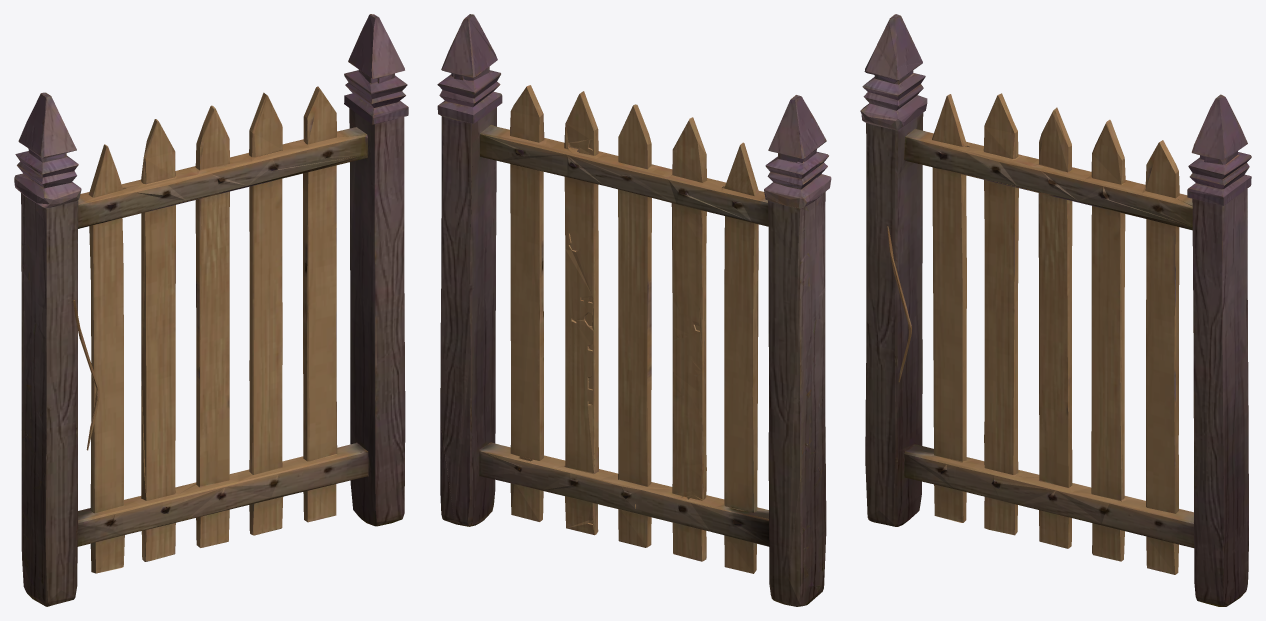
The model's file is village_fence_straight_01.glb.
3 views of the same model, side by side, from view 1: azimuth 30°, elevation 25°; view 2: azimuth 150°, elevation 25°; view 3: azimuth 330°, elevation 25° (orthographic).
Parts seen in each view (by area): view 1: geometry_0; view 2: geometry_0; view 3: geometry_0.
Part boxes in pixels (left/top/right/bottom): geometry_0: left=14, top=14, right=408, bottom=606; geometry_0: left=437, top=14, right=831, bottom=606; geometry_0: left=860, top=14, right=1251, bottom=606.
Bounding box in the file's own units: 0.762 × 0.9988 × 0.1185.
1 material, 1 textured.
